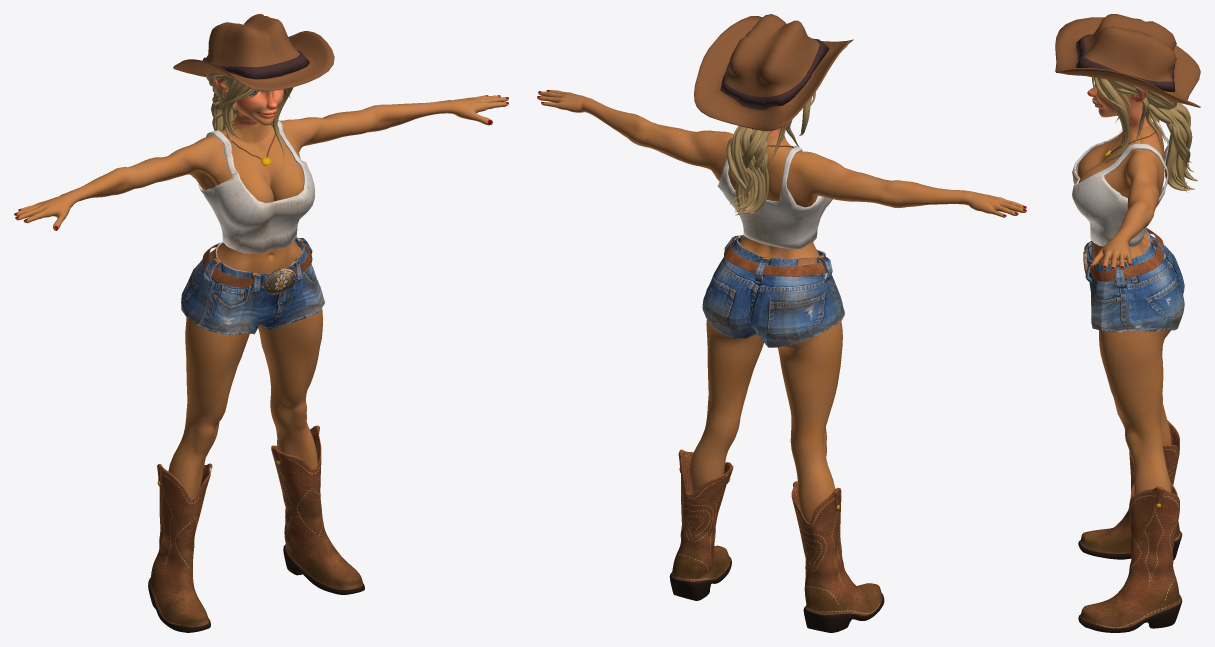
File: SKM_Daisy.glb
The picture shows the model from 3 angles, left to right: view 1: azimuth 30°, elevation 25°; view 2: azimuth 150°, elevation 25°; view 3: azimuth 270°, elevation 25°; orthographic projection. The views are drawn at different scales.
Visible parts, largest first — view 1: SKM_Daisy; view 2: SKM_Daisy; view 3: SKM_Daisy.
Part boxes in pixels (x1=…): SKM_Daisy: x1=14, y1=14, x2=508, y2=632; SKM_Daisy: x1=537, y1=14, x2=1026, y2=632; SKM_Daisy: x1=1055, y1=14, x2=1200, y2=632.
Bounding box in the file's own units: 159 × 179 × 41.53.
Materials: 17 (7 with a texture image).
